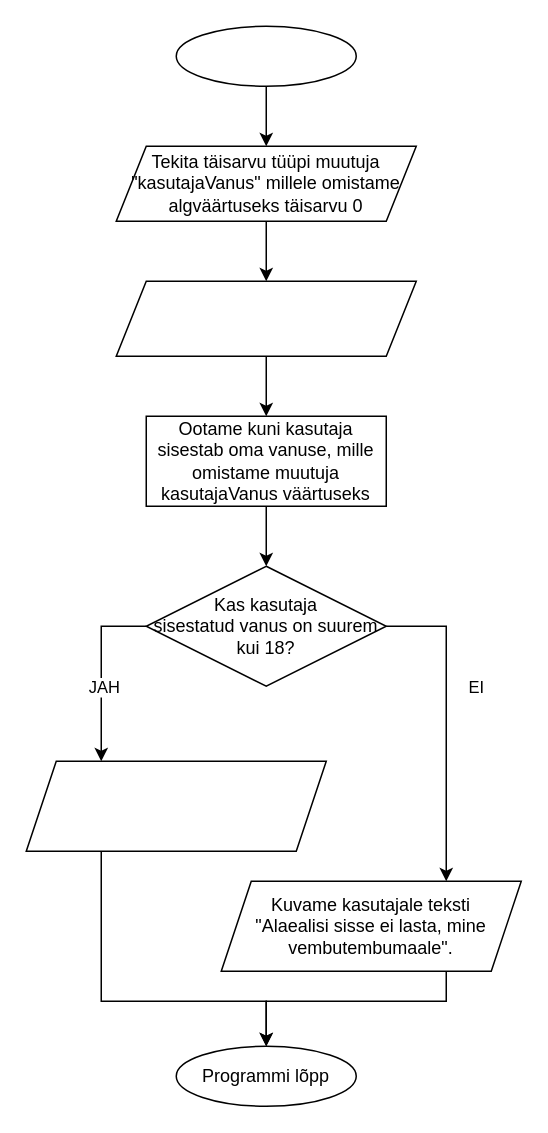
The diagram is 548 pixels wide and 1133 high, and some of its shapes have lost their labels. The shapes that lost their labels are listed below. From the top down, each one's centre as x and y in pixels, then its label:
the point at 265,55: Programmi algus
the point at 265,318: kuva kasutajale tekst "Kui vana sa oled?"
the point at 175,805: Kuvame kasutajale teksti "Tere, siin on sinu mojito 🍹"
